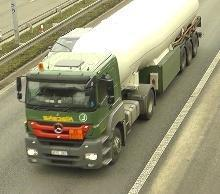Truck: (16, 0, 201, 170)
